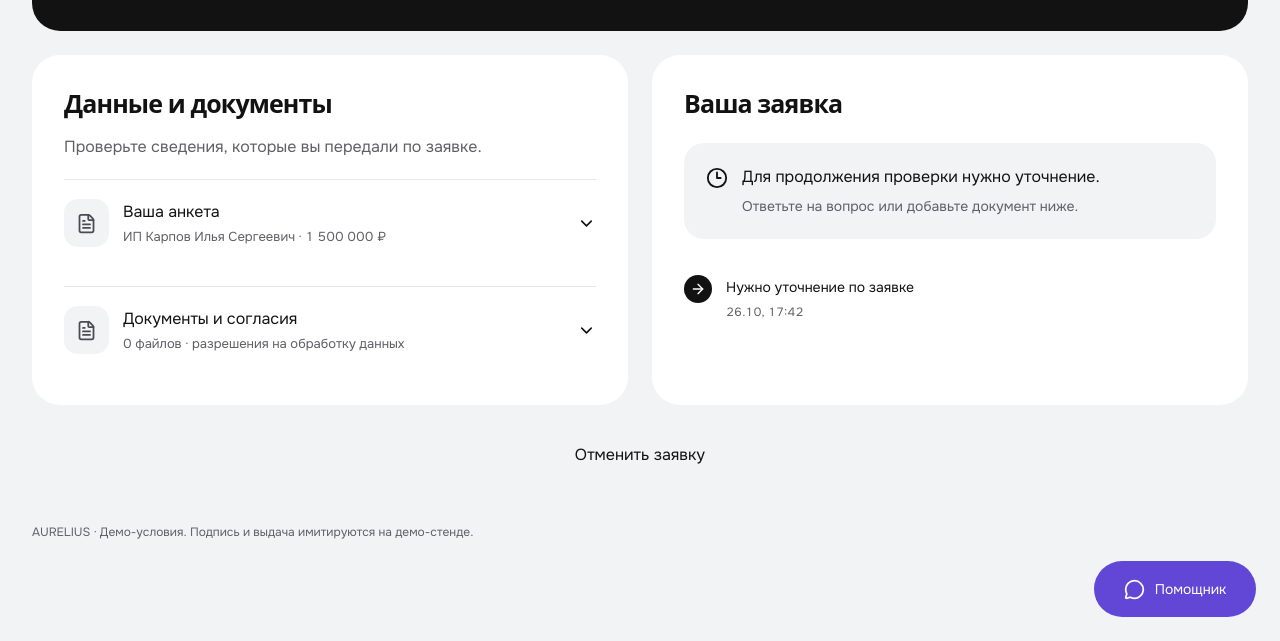
Key screens › keeps internal bank audit out of the client application
(page scrolled)
Click the button "Документы и согласия".
click(86, 330)  # box top-left (64, 287), bottom-right (596, 373)
(page scrolled)
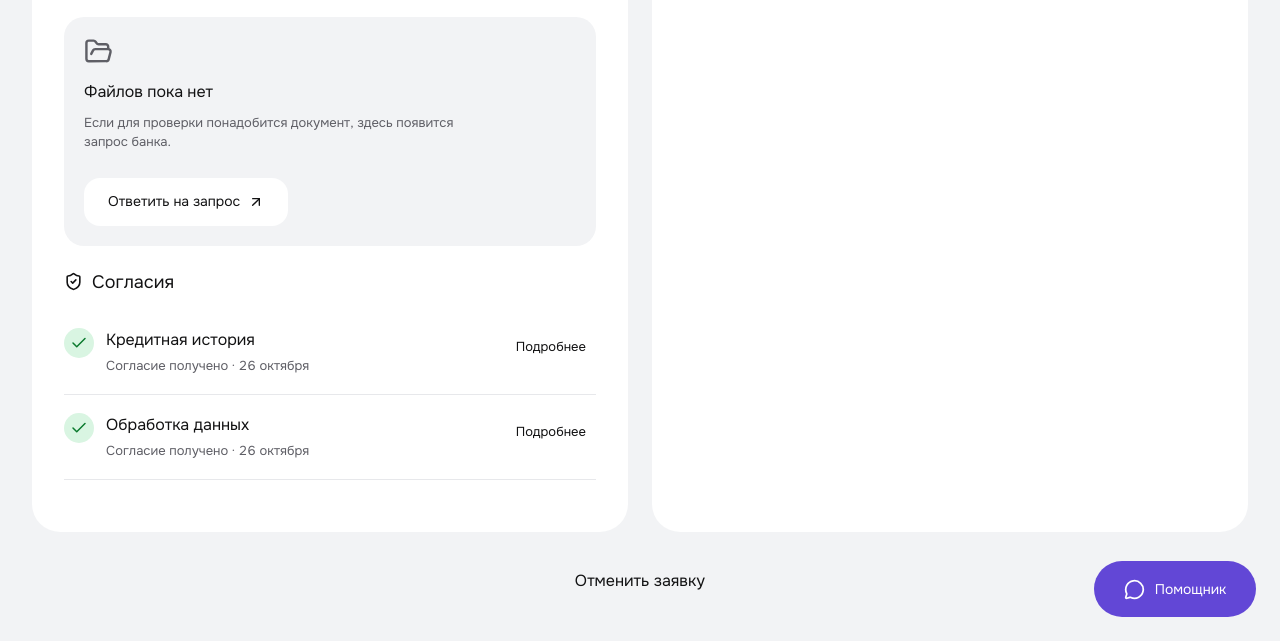
Now the heading "Согласия" is shown, box top-left (92, 270), bottom-right (174, 294)
